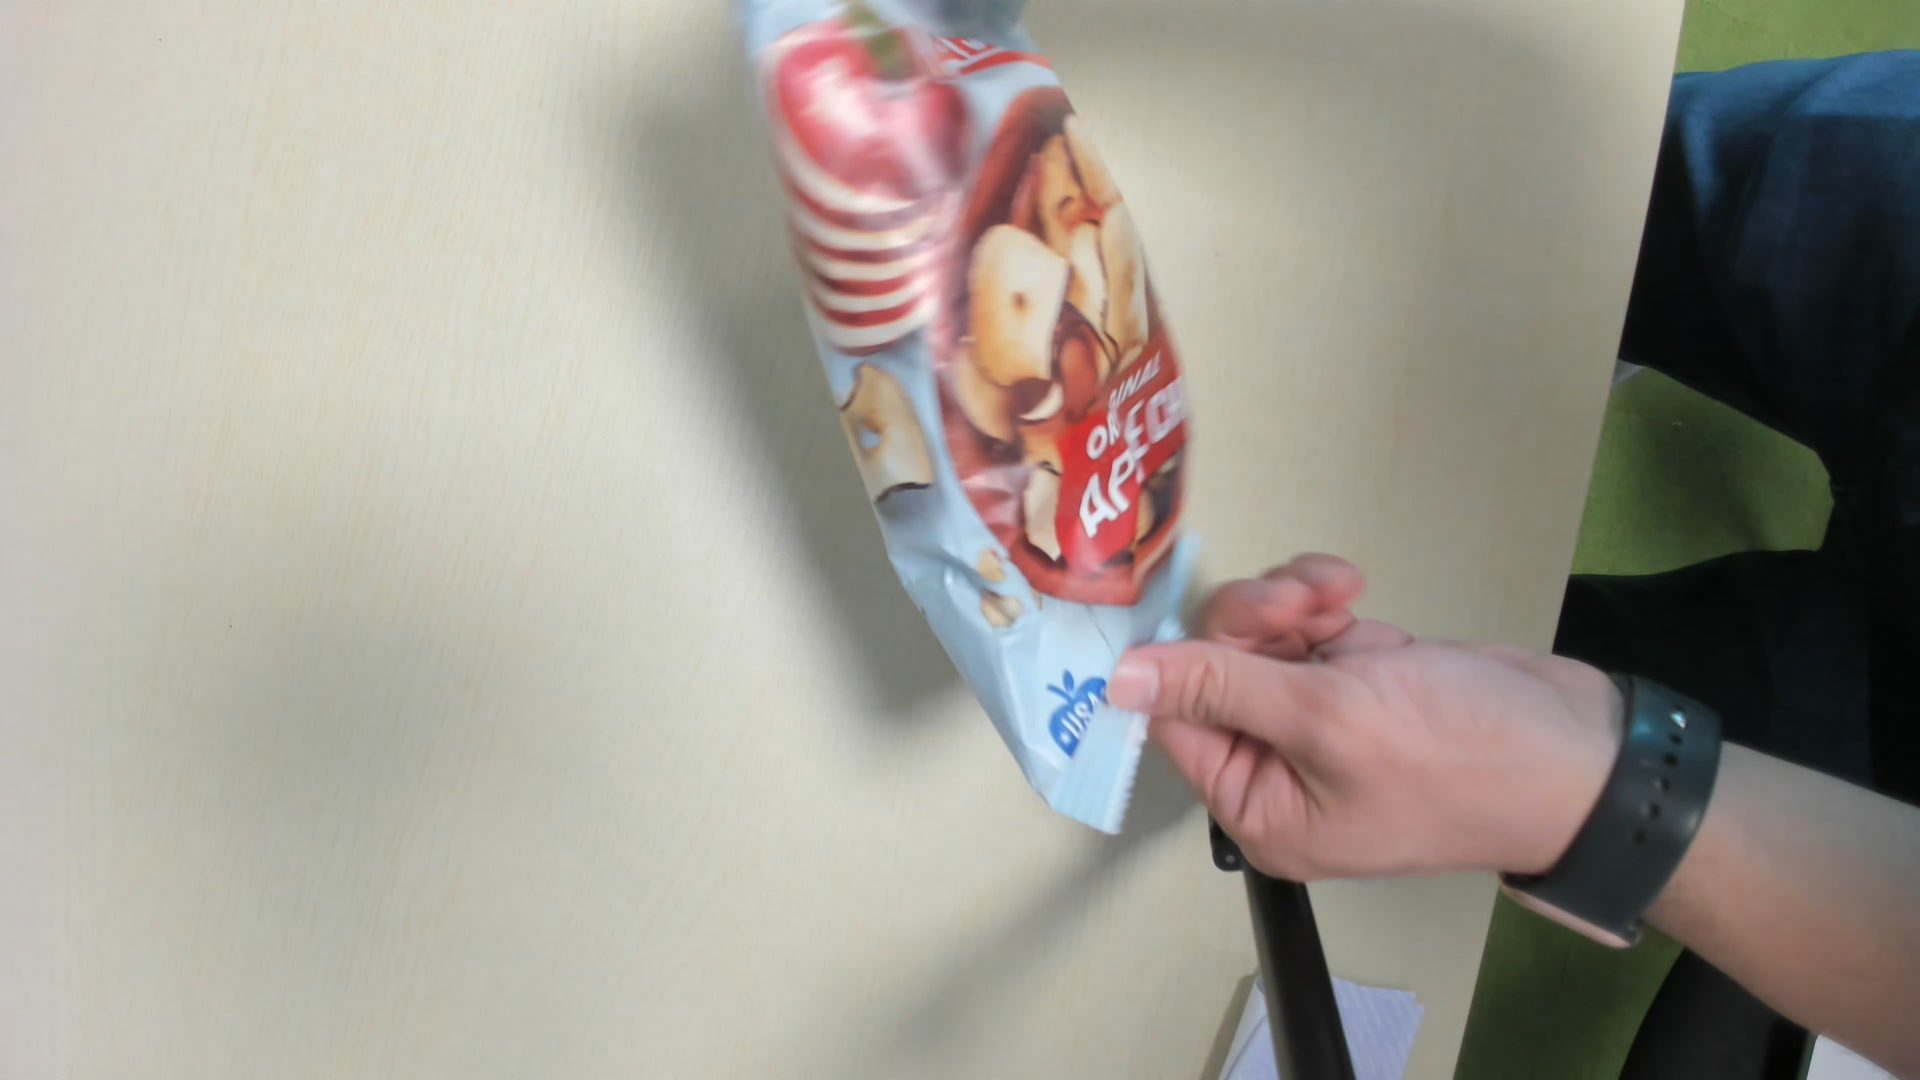PotatoChipsKeropok_0-99g_NonHalal_NonHealthy: (754, 11, 1189, 833)
